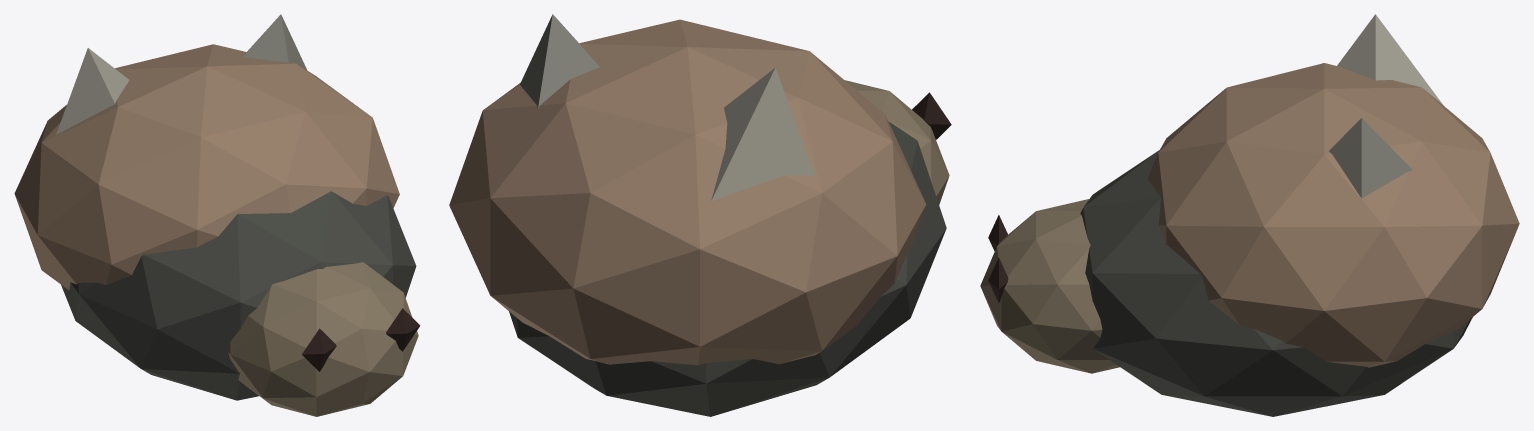
File: flinthide.glb
3 renders of one model, left to right at view 1: azimuth 30°, elevation 25°; view 2: azimuth 150°, elevation 25°; view 3: azimuth 270°, elevation 25°, orthographic. The views are drawn at different scales.
Visible parts, largest first — view 1: flinthide; view 2: flinthide; view 3: flinthide.
Part boxes in pixels (box(x1,y1,x2,y2)): flinthide: box(14, 14, 420, 416); flinthide: box(449, 14, 951, 416); flinthide: box(980, 14, 1519, 416).
Bounding box in the file's own units: 0.89 × 0.785 × 1.16.
